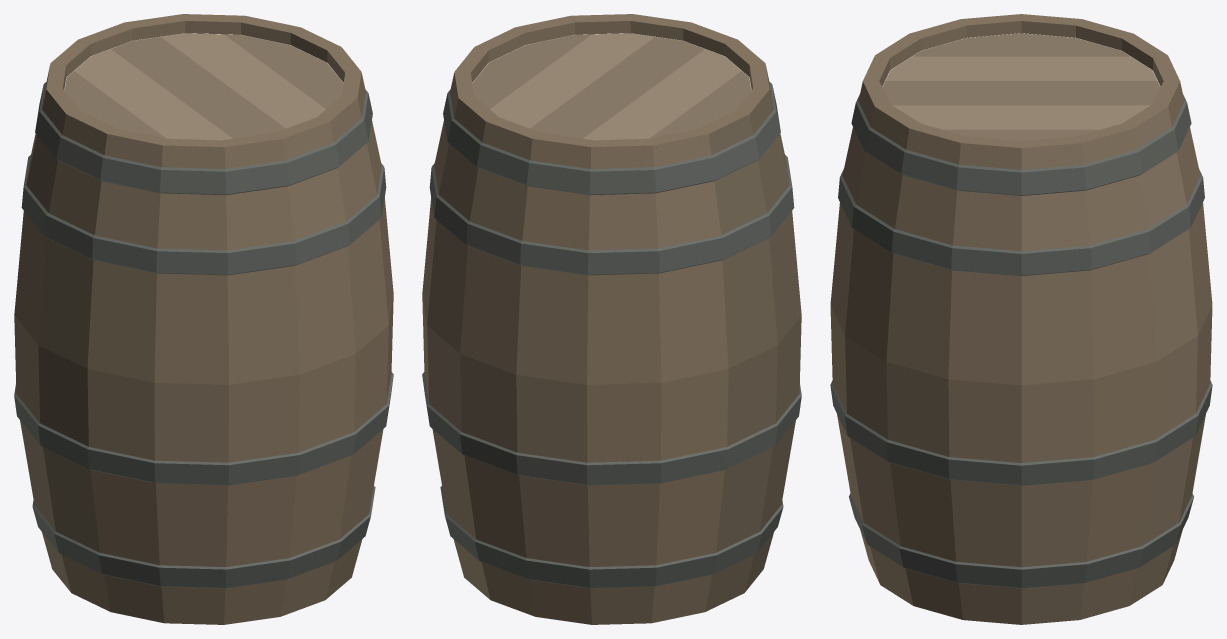
Rendered from env_barrel_closed_a_opt01.glb.
The picture shows the model from 3 angles, left to right: view 1: azimuth 30°, elevation 25°; view 2: azimuth 150°, elevation 25°; view 3: azimuth 270°, elevation 25°; orthographic projection.
Visible parts, largest first — view 1: material_0, material_3, material_2, material_5, material_4; view 2: material_0, material_3, material_2, material_5, material_4; view 3: material_0, material_5, material_3, material_4.
Part boxes in pixels (x1=…): material_0: x1=26, y1=14, x2=393, y2=624; material_3: x1=14, y1=82, x2=393, y2=588; material_2: x1=14, y1=90, x2=110, y2=611; material_5: x1=64, y1=34, x2=343, y2=138; material_4: x1=74, y1=33, x2=325, y2=140; material_0: x1=422, y1=14, x2=789, y2=624; material_3: x1=422, y1=82, x2=801, y2=588; material_2: x1=705, y1=90, x2=801, y2=611; material_5: x1=427, y1=34, x2=751, y2=599; material_4: x1=490, y1=33, x2=741, y2=140; material_0: x1=830, y1=14, x2=1212, y2=624; material_5: x1=882, y1=33, x2=1197, y2=624; material_3: x1=830, y1=94, x2=1212, y2=588; material_4: x1=885, y1=56, x2=1157, y2=129.
Size of the model in its own units: 0.6505 by 0.9 by 0.6505.
